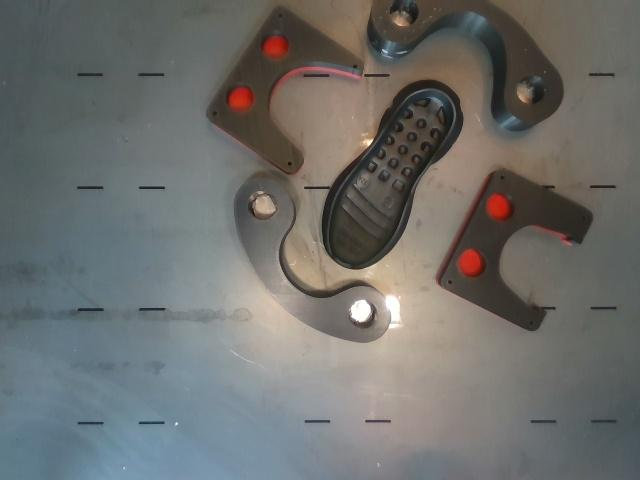shoes: (329, 90, 455, 267)
